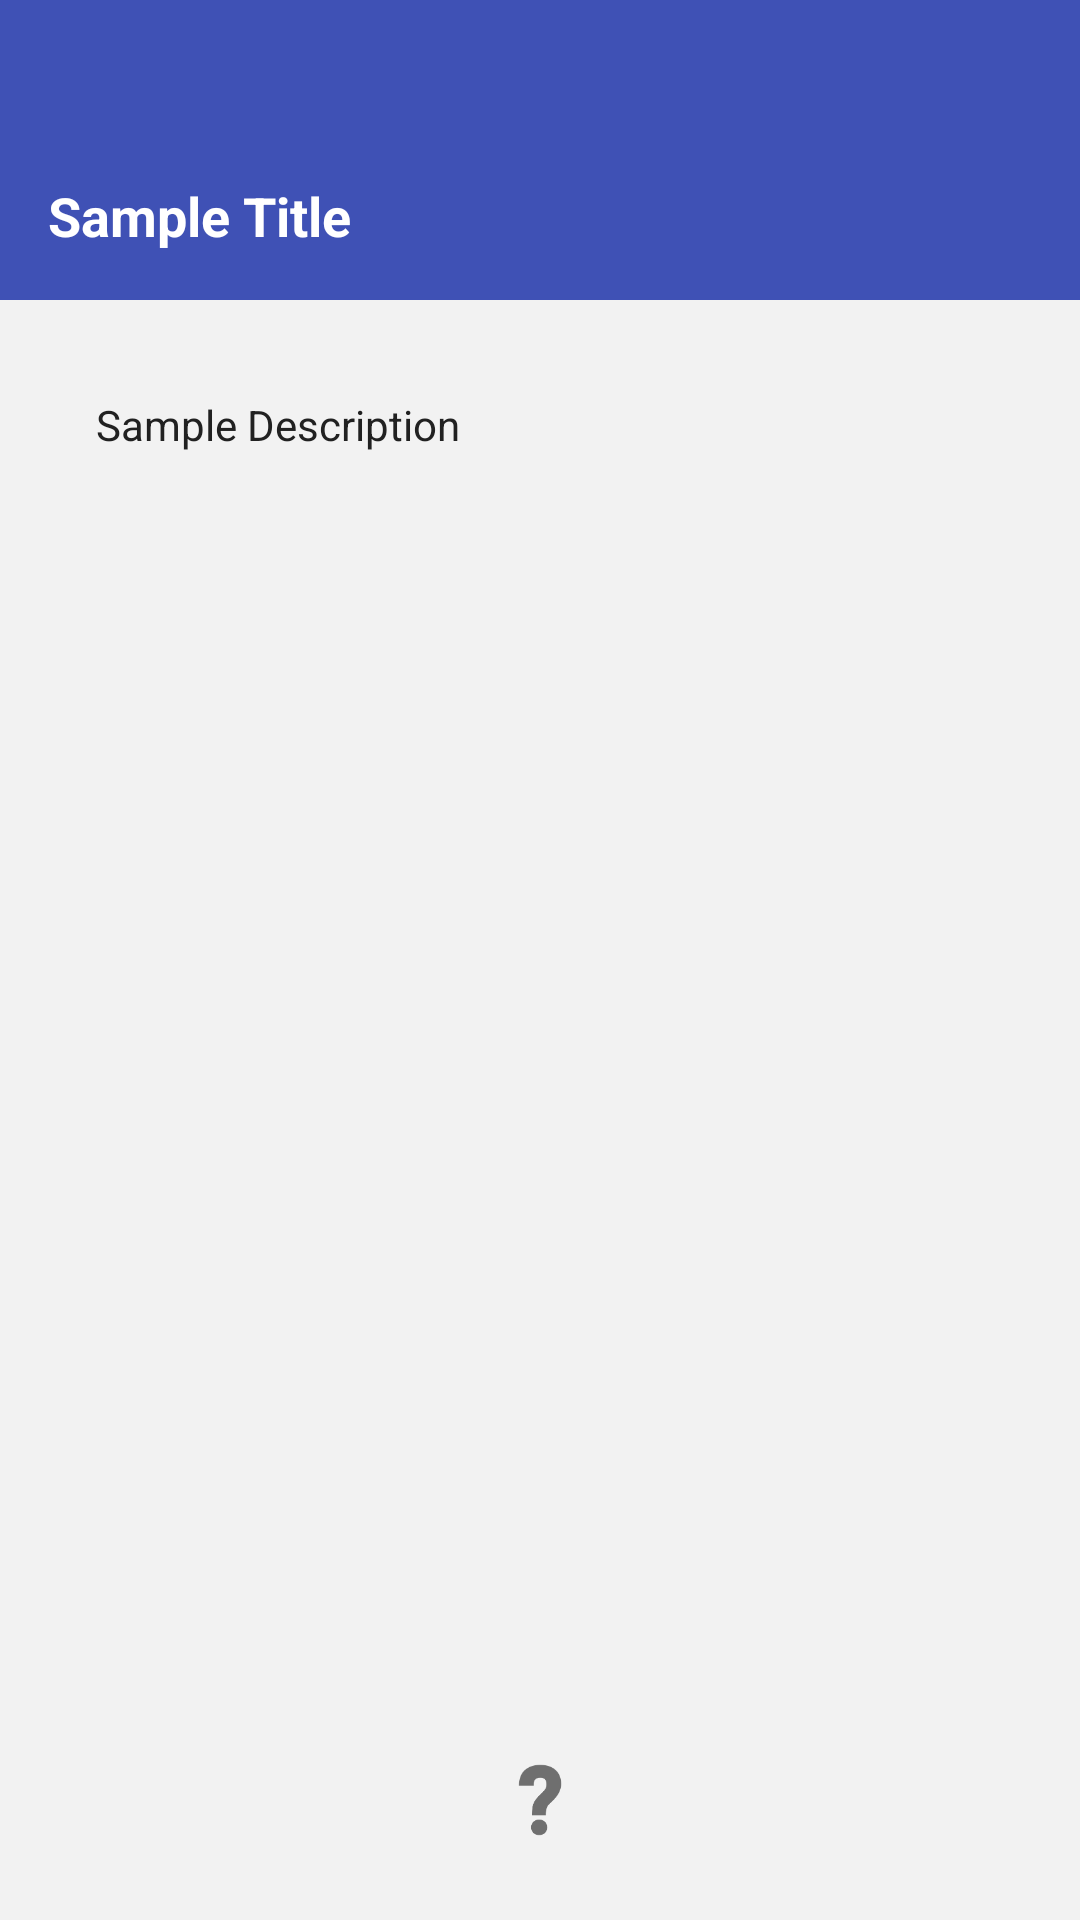

Icon bounding boxes for this 1080 × 1920 phone screenshot, format Rect(x1, y1, x2, y2):
ask question: Rect(519, 1765, 561, 1835)
